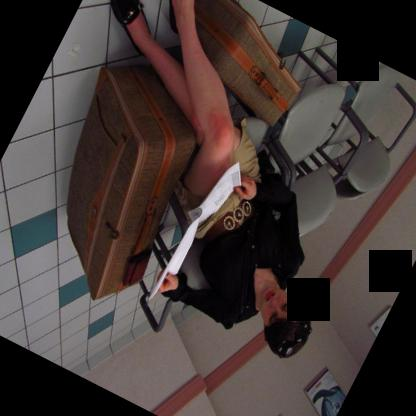suitcase: (62, 64, 195, 299), (192, 0, 299, 127)
